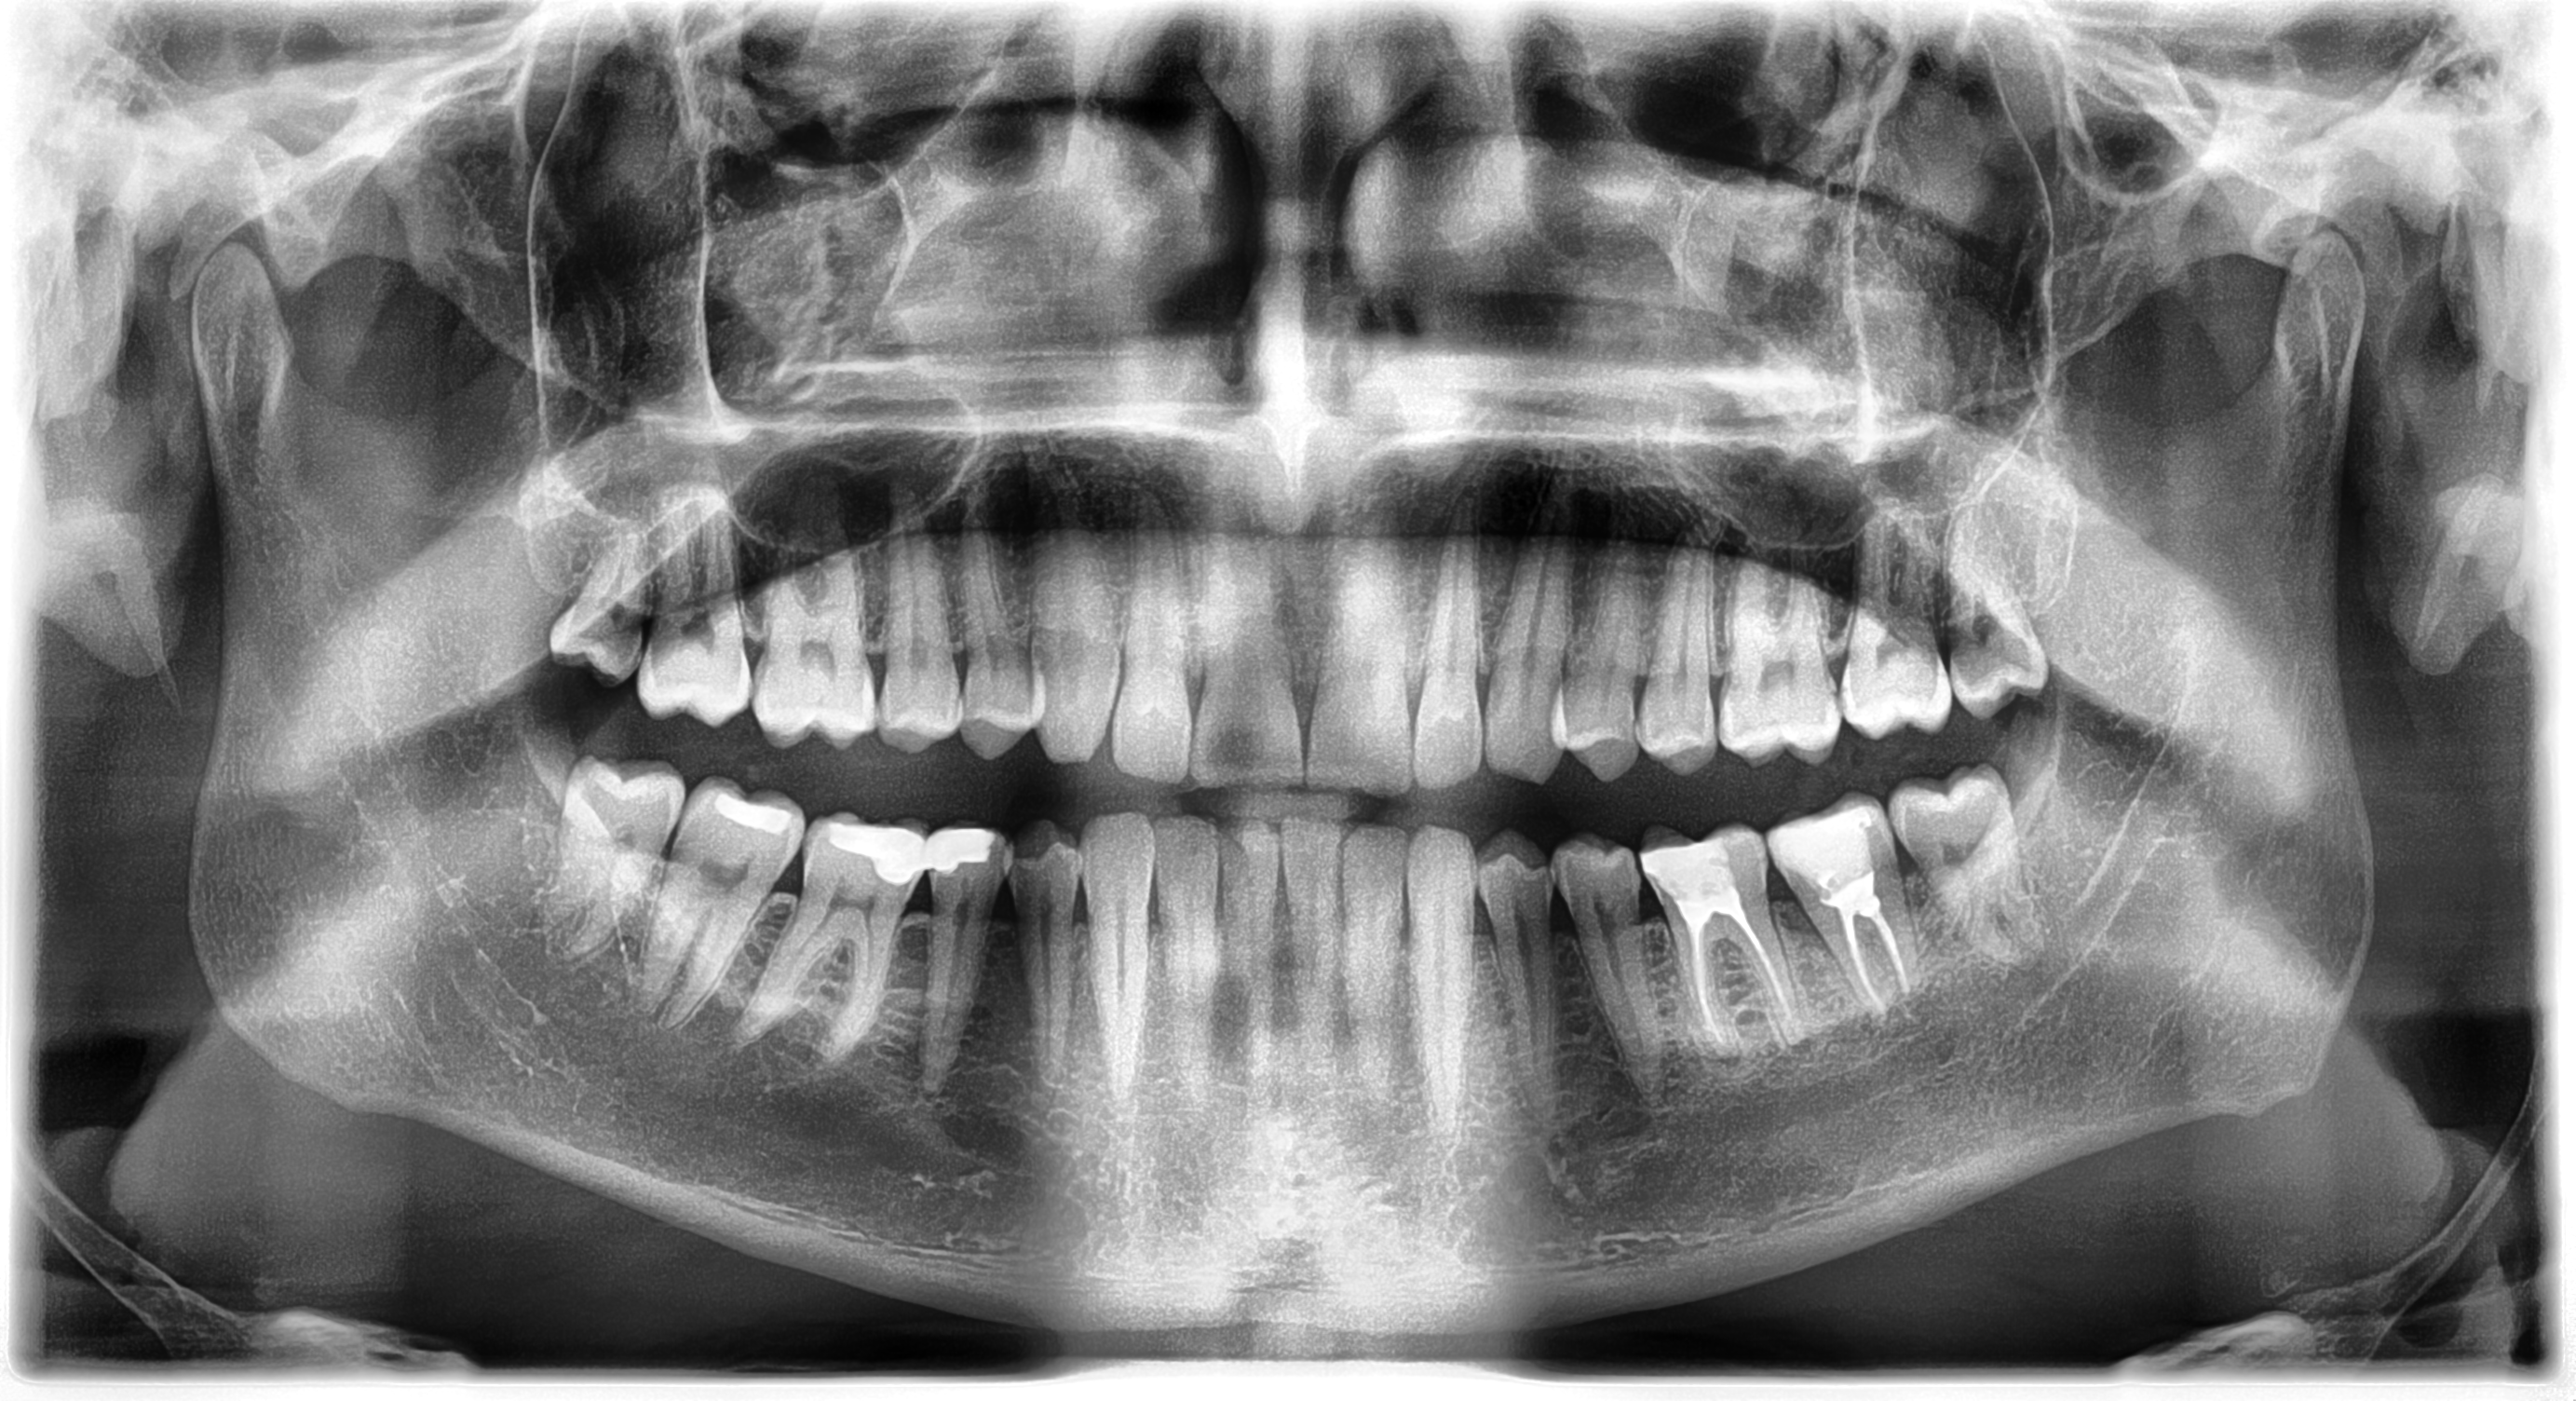cordal: (1893, 497, 2107, 737), (502, 733, 716, 973), (483, 481, 697, 721), (1867, 752, 2081, 990)
tratamiento_conducto: (1623, 795, 1828, 1077), (1759, 768, 1964, 1049)
